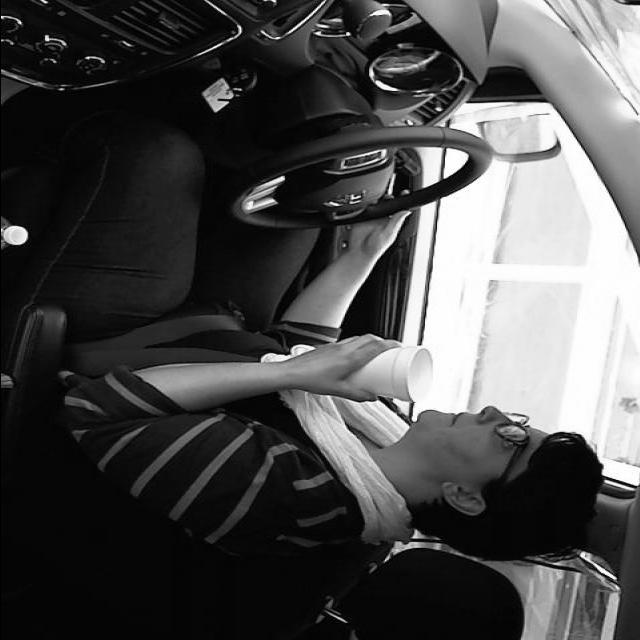drinking: (318, 340, 438, 406)
